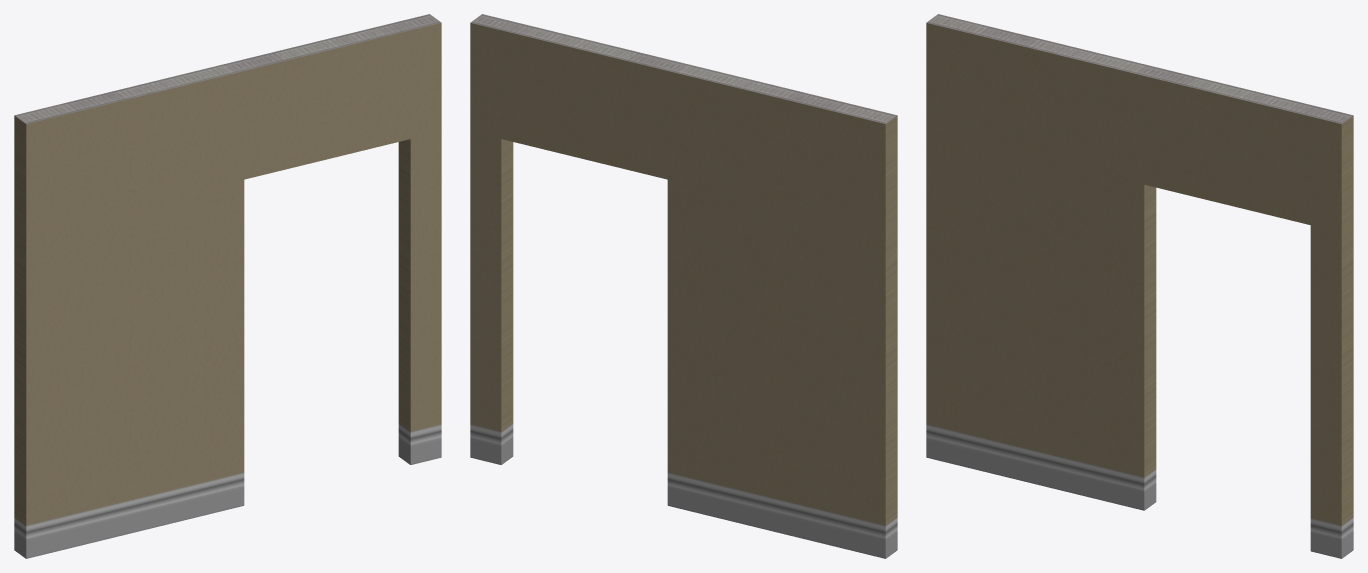
Rendered from wall1_3.fbx.
3 views of the same model, side by side, from view 1: azimuth 30°, elevation 25°; view 2: azimuth 150°, elevation 25°; view 3: azimuth 330°, elevation 25° (orthographic).
Visible parts, largest first — view 1: wall1_yellow_c; view 2: wall1_yellow_c; view 3: wall1_yellow_c.
Boxes of the visible parts, <box> form: wall1_yellow_c: <box>14,14,441,558</box>; wall1_yellow_c: <box>470,14,897,558</box>; wall1_yellow_c: <box>926,14,1353,558</box>.
Bounding box in the file's own units: 400 × 400 × 20.
